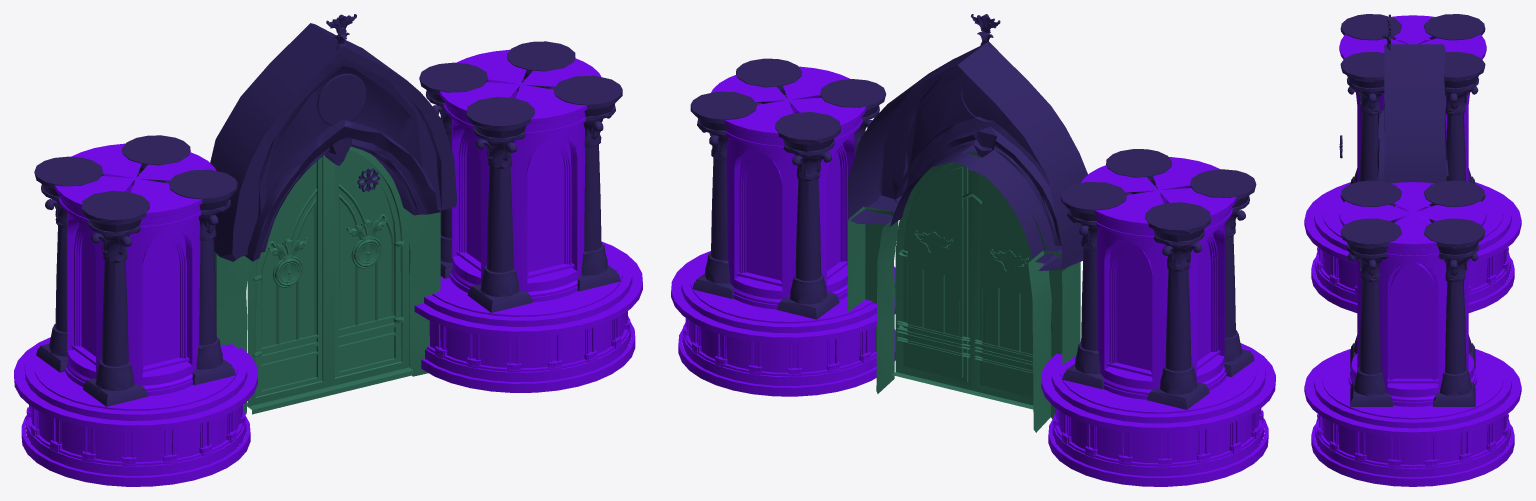
Rendered from SM_gatedoorJOIn.fbx.
3 views of the same model, side by side, from view 1: azimuth 30°, elevation 25°; view 2: azimuth 150°, elevation 25°; view 3: azimuth 270°, elevation 25° (orthographic). The views are drawn at different scales.
Visible parts, largest first — view 1: SM_gatewindowbase.002, SM_doorcover.002, SM_alphabatpillar.002, SM_bossdoor.002, SM_gatesidewindow.003, SM_gatesidewindow.002; view 2: SM_doorcover.002, SM_gatewindowbase.002, SM_alphabatpillar.002, SM_bossdoor.002, SM_gatesidewindow.003, SM_gatesidewindow.002; view 3: SM_gatewindowbase.002, SM_alphabatpillar.002, SM_gatesidewindow.002, SM_doorcover.002, SM_gatesidewindow.003.
Boxes of the visible parts, x1,y1,x2,y2 form: SM_gatewindowbase.002: (14,241,642,486); SM_doorcover.002: (210,14,457,414); SM_alphabatpillar.002: (34,41,622,406); SM_bossdoor.002: (247,146,413,414); SM_gatesidewindow.003: (71,49,587,396); SM_gatesidewindow.002: (54,58,601,386); SM_doorcover.002: (847,14,1087,432); SM_gatewindowbase.002: (671,251,1275,486); SM_alphabatpillar.002: (690,58,1256,409); SM_bossdoor.002: (892,151,1045,409); SM_gatesidewindow.003: (724,66,1220,399); SM_gatesidewindow.002: (711,74,1236,390); SM_gatewindowbase.002: (1304,182,1521,486); SM_alphabatpillar.002: (1340,14,1485,406); SM_gatesidewindow.002: (1378,15,1447,406); SM_doorcover.002: (1377,14,1448,183); SM_gatesidewindow.003: (1339,34,1486,385).
Size of the model in its own units: 1782 by 1120 by 633.
